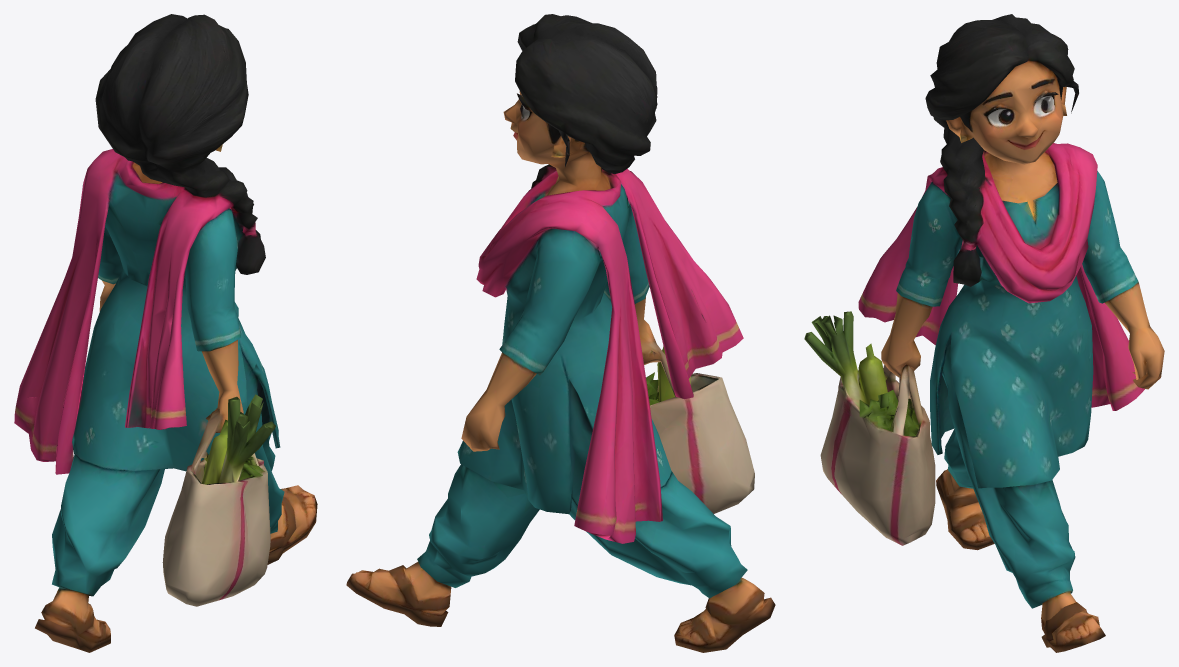
The model's file is pedestrian-shopper.glb.
The picture shows the model from 3 angles, left to right: view 1: azimuth 30°, elevation 25°; view 2: azimuth 150°, elevation 25°; view 3: azimuth 270°, elevation 25°; orthographic projection. The views are drawn at different scales.
Visible parts, largest first — view 1: tripo_node_40ae9da1-9ad1-4938-ba36-87624d0e5b18; view 2: tripo_node_40ae9da1-9ad1-4938-ba36-87624d0e5b18; view 3: tripo_node_40ae9da1-9ad1-4938-ba36-87624d0e5b18.
Part boxes in pixels (x1,y1,x2,y2): tripo_node_40ae9da1-9ad1-4938-ba36-87624d0e5b18: (14,14,317,652); tripo_node_40ae9da1-9ad1-4938-ba36-87624d0e5b18: (346,14,775,652); tripo_node_40ae9da1-9ad1-4938-ba36-87624d0e5b18: (804,14,1164,652).
Bounding box in the file's own units: 0.6153 × 1 × 0.5689.
Materials: 1 (1 with a texture image).
